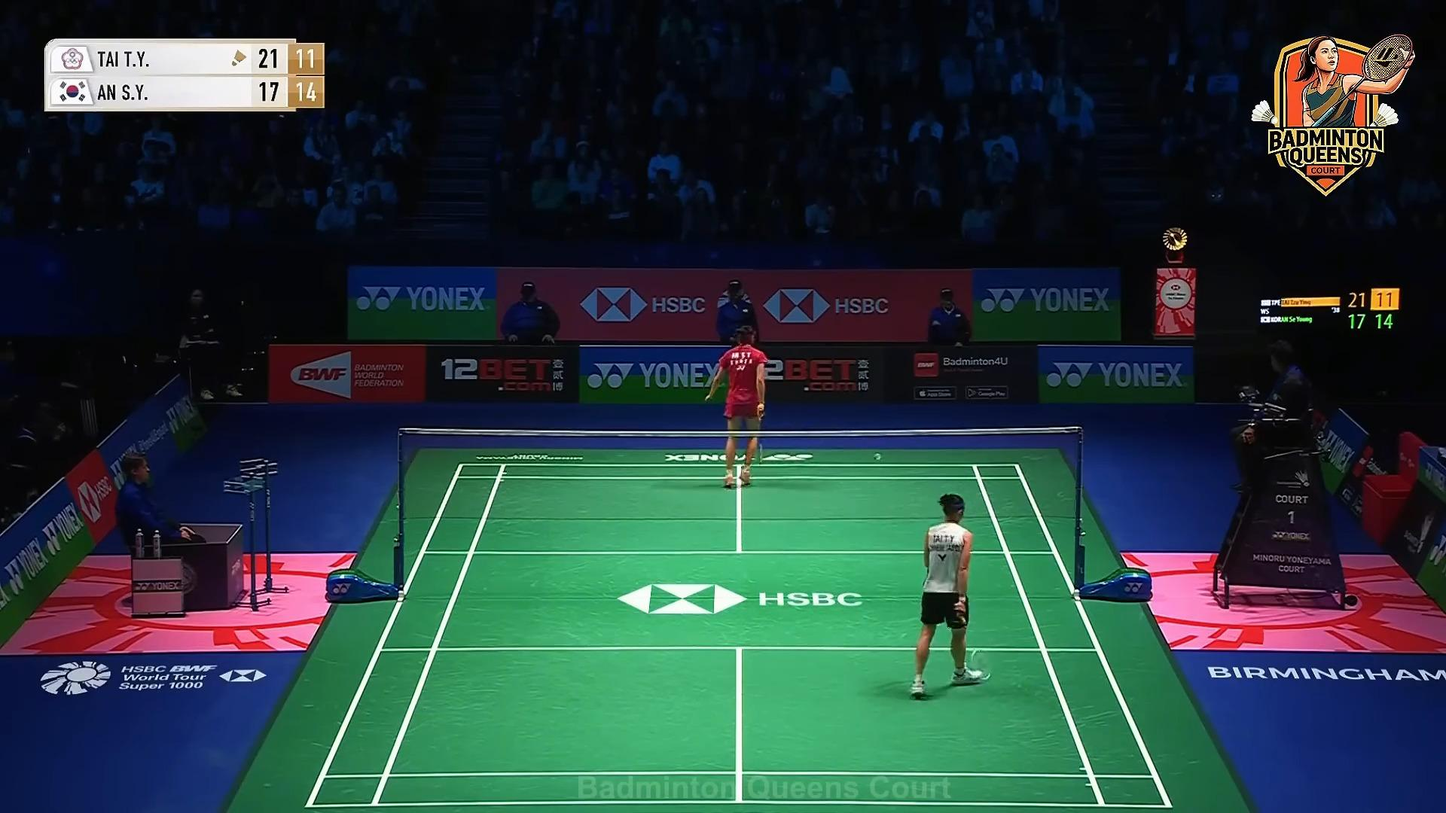player: (910, 493, 989, 700), (705, 323, 767, 490)
shuttlecock: (871, 452, 882, 461)
